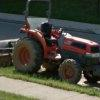Tractor: (15, 6, 100, 94)
